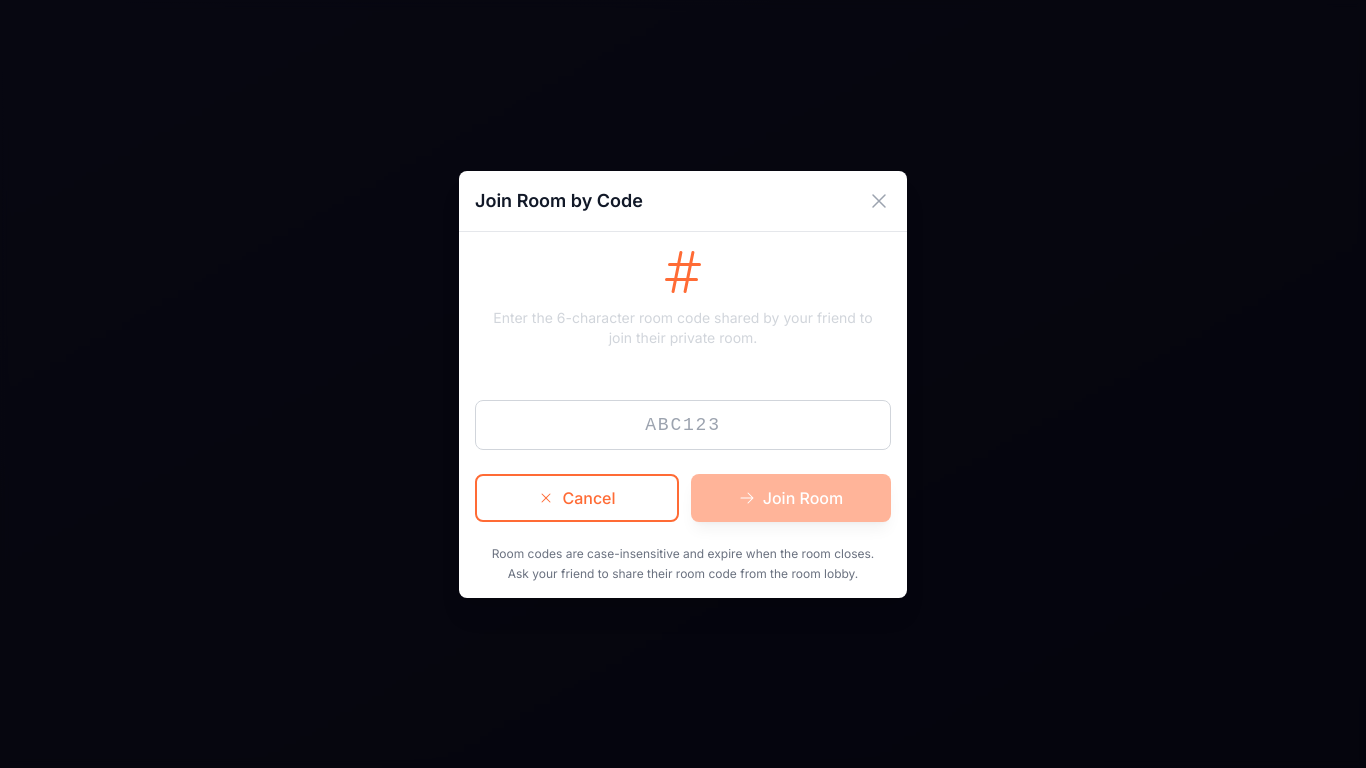
Test: JoinByCodeModal › removes invalid characters from input
// Type invalid characters
Type "abc-123!@#" into the field labelled "Room Code" at (683, 424), box [475,400,891,450]
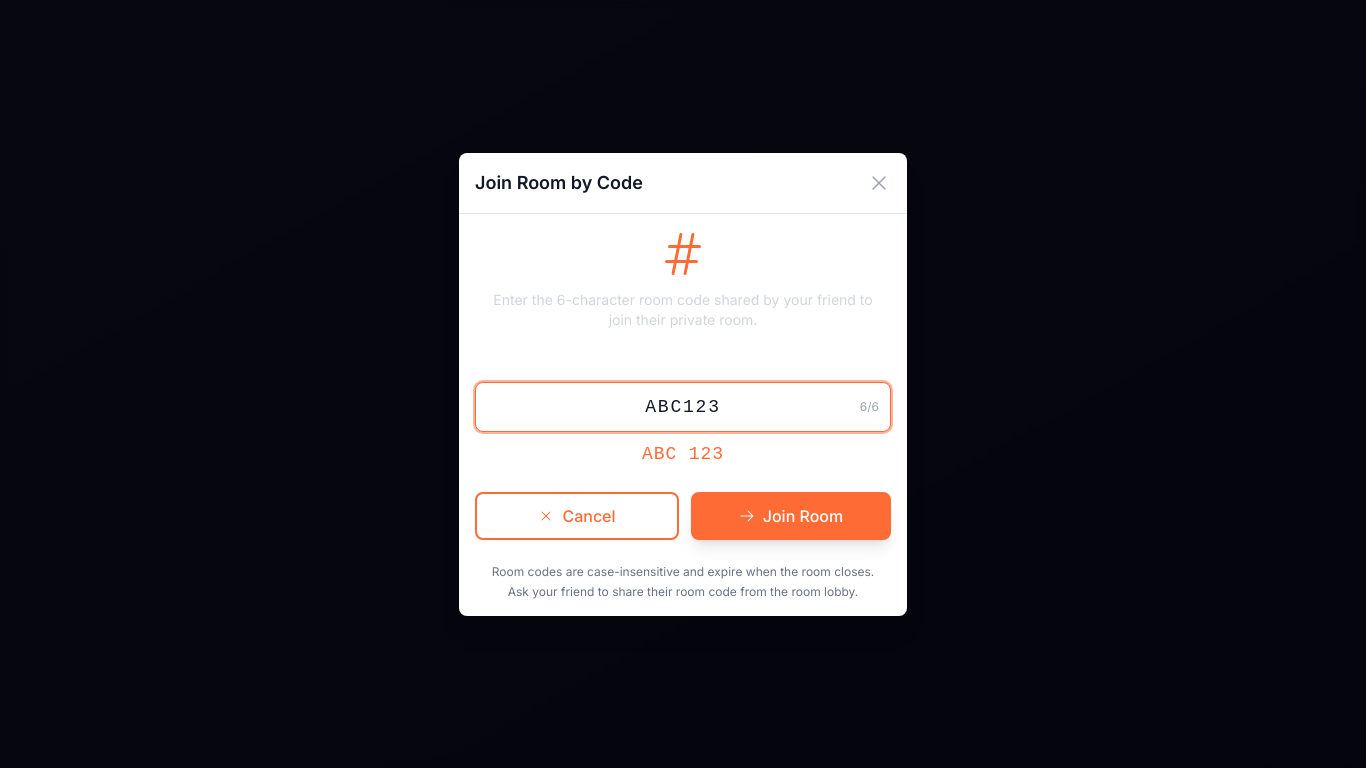
Result: the field labelled "Room Code" holds "ABC123" at [475,382,891,432]
